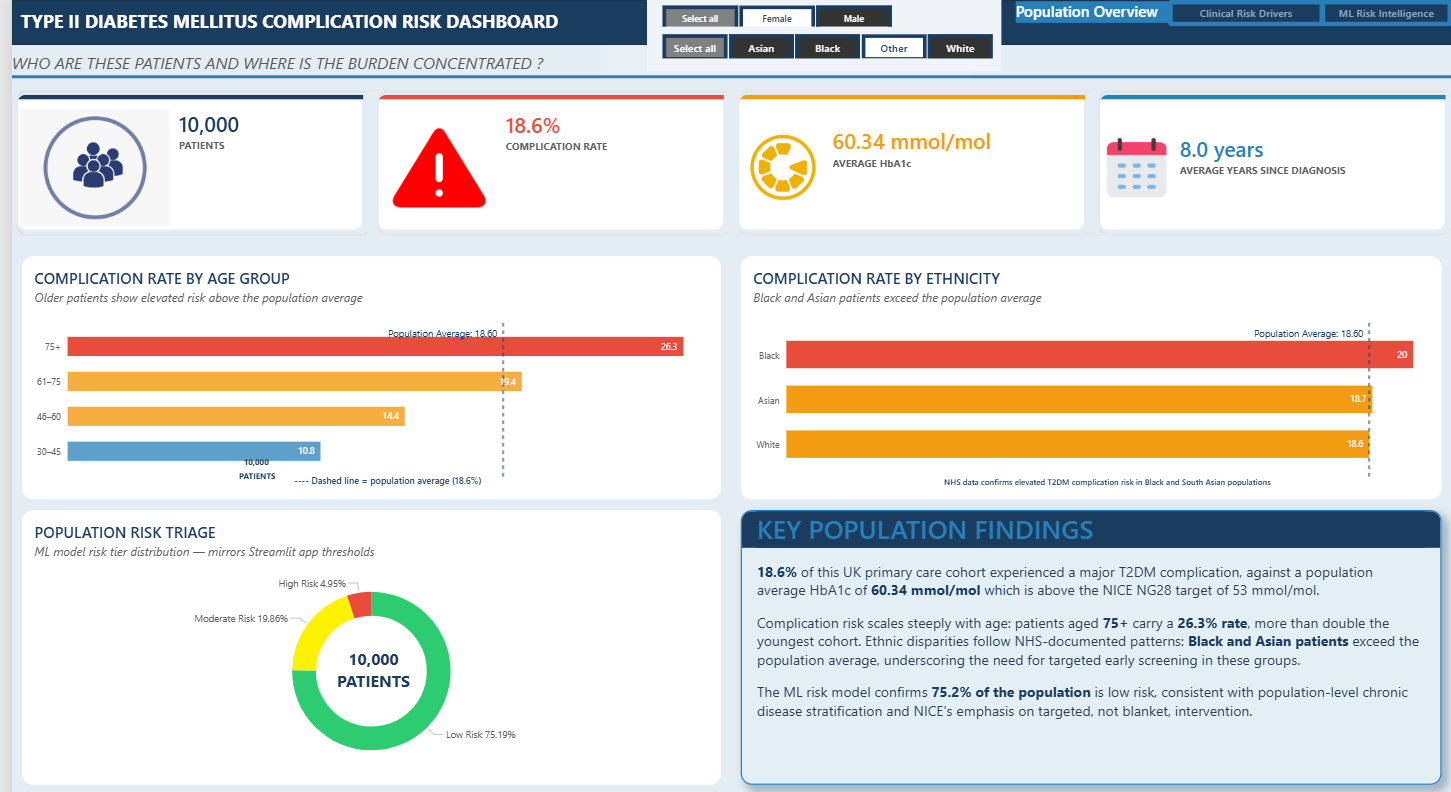

What the dashboard file says about the page in this screenshot:
{"tool":"powerbi","page":{"name":"Population Overview","canvas":[1920,1080],"ordinal":0},"visuals":[{"type":"shape","box":[785.7,0,494.3,101.4],"z":0},{"type":"shape","box":[0,0,1920,60],"z":1000},{"type":"textbox","box":[0,12,740,48],"z":2000},{"type":"textbox","box":[0,68,1016,52],"z":3000},{"type":"cardVisual","fields":{"Data":["_Measures.Patients Display","_Measures.Complication Rate Display","_Measures.Average HbA1c Display","_Measures.Average Duration since Diagnosis Display"]},"box":[0,120,1920,194],"z":4000},{"type":"shape","box":[0,78,1920,48],"z":5000},{"type":"clusteredBarChart","title":"COMPLICATION RATE BY AGE GROUP","fields":{"Category":["Age Groups.age_bracket"],"Y":["Avg(Age Groups.complication_rate)"]},"box":[14,342,932,324],"z":6000},{"type":"clusteredBarChart","title":"COMPLICATION RATE BY ETHNICITY","fields":{"Category":["Ethnicity Risk.Ethnicity"],"Y":["Sum(Ethnicity Risk.complication_rate)"]},"box":[972,342,934,324],"z":7000},{"type":"shape","box":[846.5,0,472.5,95],"z":8000},{"type":"donutChart","title":"POPULATION RISK TRIAGE","fields":{"Category":["Risk Distribution.Risk Tier"],"Y":["Sum(Risk Distribution.patient_count)"]},"box":[14,680,932,366],"z":9000},{"type":"slicer","title":"HBBMNMNM LLJN","fields":{"Values":["Patient Data.Sex"]},"box":[846,5,345,30],"z":10000},{"type":"textbox","box":[280,604.3,94.3,40],"z":11000},{"type":"slicer","title":"HBBMNMNM LLJN","fields":{"Values":["Ethnicity Risk.Ethnicity"]},"box":[846,44,480,34],"z":12000},{"type":"textbox","title":"  KEY POPULATION FINDINGS","box":[972,680,934,366],"z":13000},{"type":"actionButton","title":"Population Overview","box":[1337.5,1.7,207.5,32.5],"z":14000},{"type":"actionButton","box":[1541.2,0.4,207.5,35],"z":14001},{"type":"actionButton","box":[1745,0.4,175,35],"z":14002},{"type":"textbox","box":[222.5,862.5,517.5,90],"z":14003}]}

Visuals, with their boxes on the page's 1920x1080 design canvas (x1, y1, x2, y2). These are canvas units, not pixel positions in the 1451x792 screenshot, which may show the page scaled, cropped or inside an application window:
shape: Rect(786, 0, 1280, 101)
shape: Rect(0, 0, 1920, 60)
textbox: Rect(0, 12, 740, 60)
textbox: Rect(0, 68, 1016, 120)
cardVisual - _Measures.Patients Display x _Measures.Complication Rate Display: Rect(0, 120, 1920, 314)
shape: Rect(0, 78, 1920, 126)
"COMPLICATION RATE BY AGE GROUP" clusteredBarChart: Rect(14, 342, 946, 666)
"COMPLICATION RATE BY ETHNICITY" clusteredBarChart: Rect(972, 342, 1906, 666)
shape: Rect(846, 0, 1319, 95)
"POPULATION RISK TRIAGE" donutChart: Rect(14, 680, 946, 1046)
"HBBMNMNM LLJN" slicer: Rect(846, 5, 1191, 35)
textbox: Rect(280, 604, 374, 644)
"HBBMNMNM LLJN" slicer: Rect(846, 44, 1326, 78)
"  KEY POPULATION FINDINGS" textbox: Rect(972, 680, 1906, 1046)
"Population Overview" actionButton: Rect(1338, 2, 1545, 34)
actionButton: Rect(1541, 0, 1749, 35)
actionButton: Rect(1745, 0, 1920, 35)
textbox: Rect(222, 862, 740, 952)
